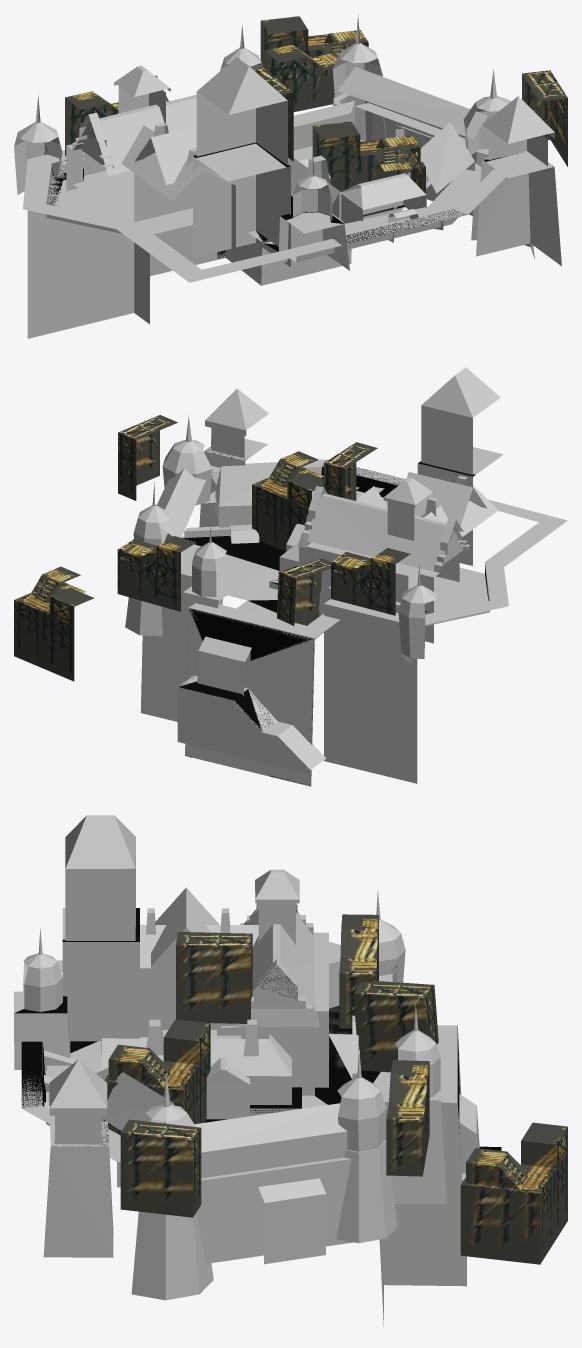
Rendered from T_Castle_01.fbx.
3 renders of one model, top to bottom at view 1: azimuth 30°, elevation 25°; view 2: azimuth 150°, elevation 25°; view 3: azimuth 270°, elevation 25°, orthographic. The views are drawn at different scales.
Parts seen in each view (by area): view 1: T_Castle_01, T_BuildForm_04 (1), T_BuildForm_05 (1), T_BuildForm_04, T_BuildForm_06 (2), FX_Territory_NightGlow, T_BuildForm_05, T_BuildForm_06 (7); view 2: T_Castle_01, FX_Territory_NightGlow, T_BuildForm_04, T_BuildForm_04 (1), T_BuildForm_05 (1), T_BuildForm_05, T_BuildForm_06 (2), T_BuildForm_06 (3), T_BuildForm_06 (7); view 3: T_Castle_01, T_BuildForm_04, T_BuildForm_06 (2), T_BuildForm_06 (7), T_BuildForm_04 (1), T_BuildForm_06 (3), FX_Territory_NightGlow, T_BuildForm_05 (1), T_BuildForm_05.
Boxes of the visible parts, x1,y1,x2,y2 form: T_Castle_01: (14, 14, 561, 338); T_BuildForm_04 (1): (312, 121, 425, 193); T_BuildForm_05 (1): (264, 44, 341, 111); T_BuildForm_04: (260, 16, 368, 67); T_BuildForm_06 (2): (522, 70, 567, 166); FX_Territory_NightGlow: (44, 128, 552, 258); T_BuildForm_05: (65, 91, 118, 160); T_BuildForm_06 (7): (253, 67, 293, 161); T_Castle_01: (125, 367, 567, 786); FX_Territory_NightGlow: (178, 447, 488, 785); T_BuildForm_04: (14, 566, 94, 681); T_BuildForm_04 (1): (252, 451, 323, 551); T_BuildForm_05 (1): (117, 536, 196, 611); T_BuildForm_05: (331, 548, 410, 615); T_BuildForm_06 (2): (118, 415, 177, 500); T_BuildForm_06 (3): (277, 558, 331, 625); T_BuildForm_06 (7): (323, 442, 377, 500); T_Castle_01: (14, 815, 501, 1326); T_BuildForm_04: (460, 1122, 567, 1264); T_BuildForm_06 (2): (120, 1119, 201, 1217); T_BuildForm_06 (7): (176, 932, 252, 1023); T_BuildForm_04 (1): (103, 1019, 210, 1135); T_BuildForm_06 (3): (353, 981, 438, 1072); FX_Territory_NightGlow: (14, 905, 501, 1150); T_BuildForm_05 (1): (386, 1060, 429, 1176); T_BuildForm_05: (339, 914, 378, 1028).
Bounding box in the file's own units: 19.11 × 13.27 × 17.06.
